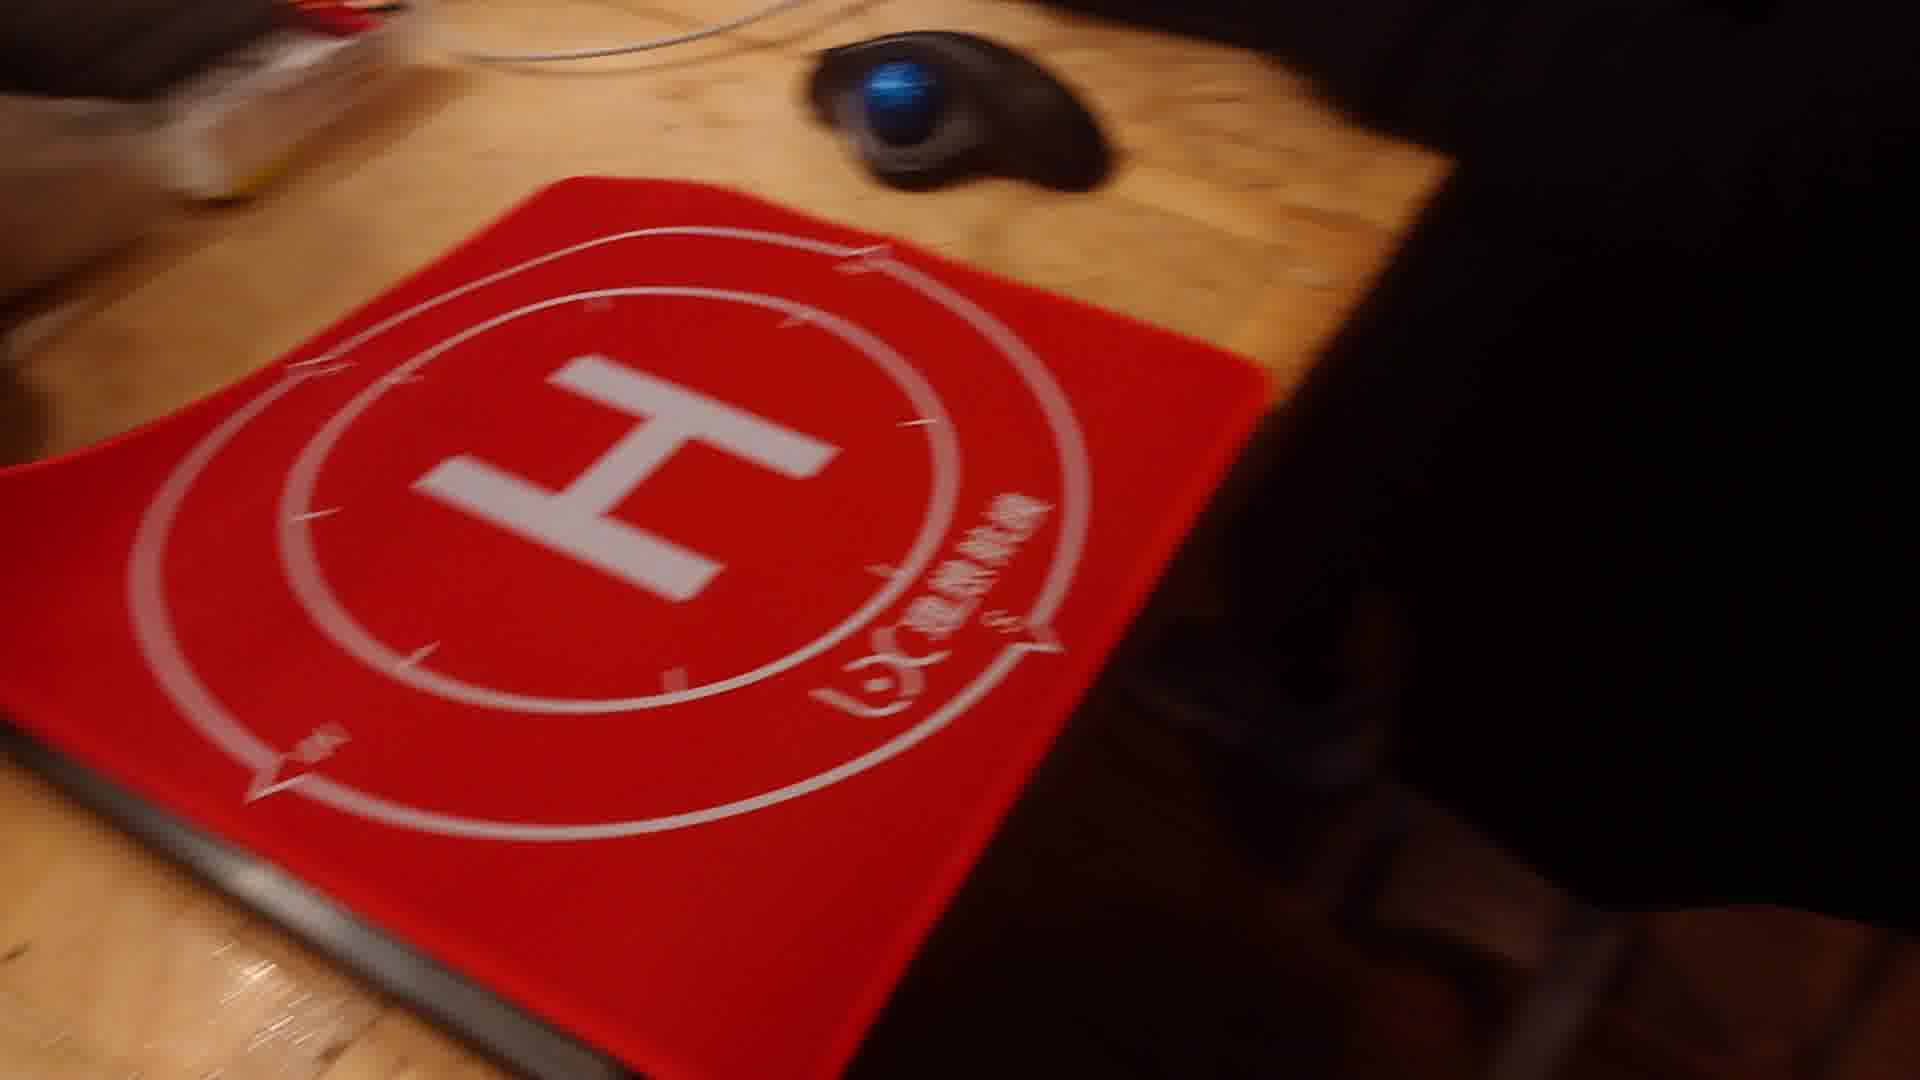H: (418, 352, 845, 603)
